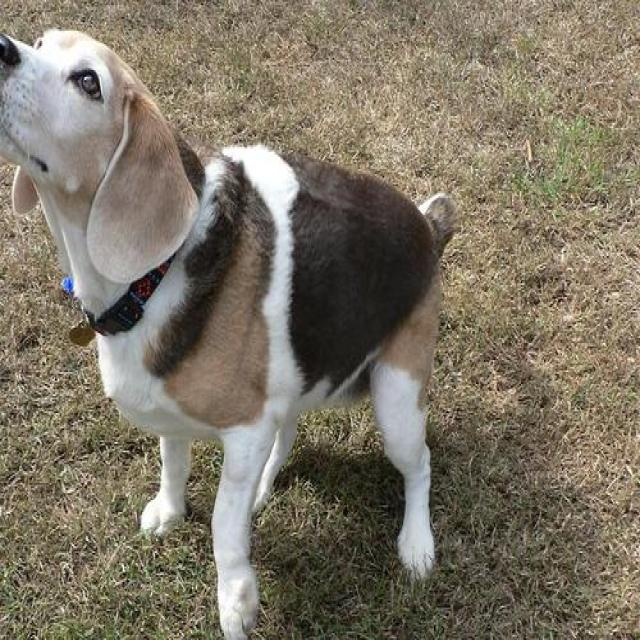beagle: (0, 26, 457, 638)
